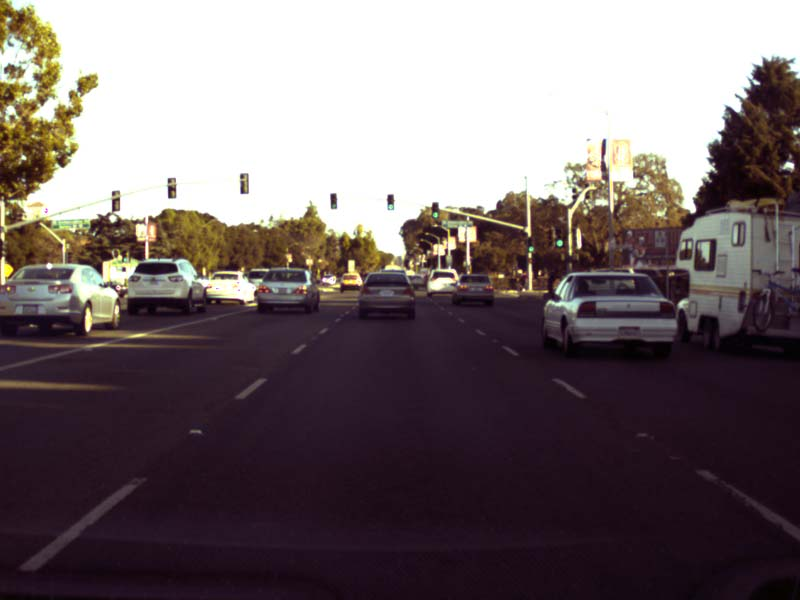Green: (554, 228, 564, 248), (386, 194, 394, 211), (526, 237, 535, 252), (329, 193, 337, 209), (432, 201, 439, 218), (122, 249, 127, 263)
